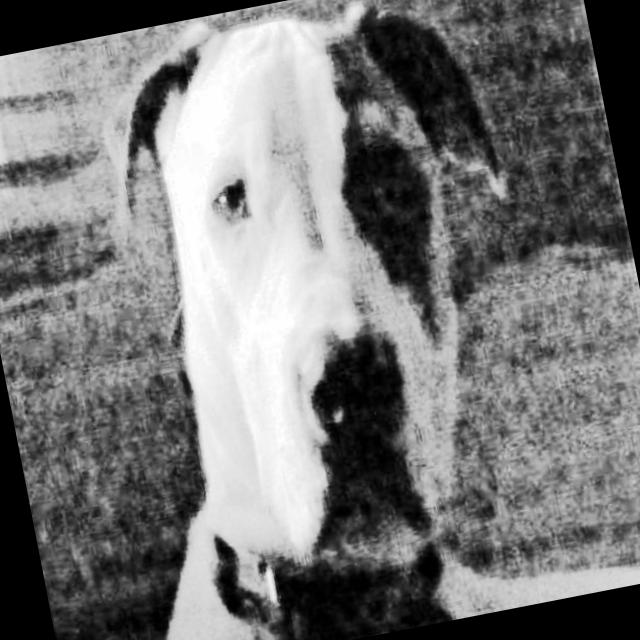Dog: (30, 0, 591, 640)
